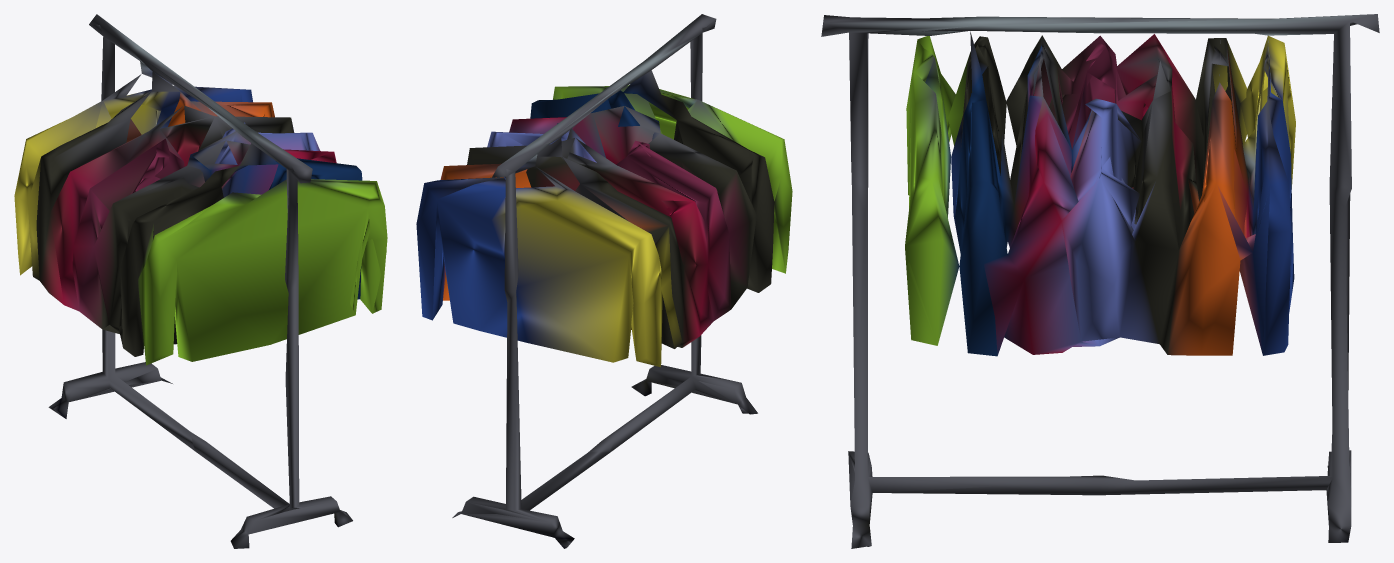
Rendered from gen3d-clothing-rack-lod1.glb.
3 renders of one model, left to right at view 1: azimuth 30°, elevation 25°; view 2: azimuth 150°, elevation 25°; view 3: azimuth 270°, elevation 25°, orthographic. The views are drawn at different scales.
Parts seen in each view (by area): view 1: part_0; view 2: part_0; view 3: part_0.
Part boxes in pixels (left/top/right/bottom): part_0: left=14, top=14, right=387, bottom=548; part_0: left=416, top=14, right=792, bottom=548; part_0: left=821, top=14, right=1379, bottom=548.
Bounding box in the file's own units: 0.6559 × 0.9951 × 0.9986.
